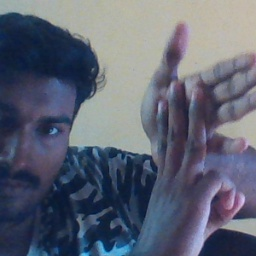M: (137, 19, 256, 226)
